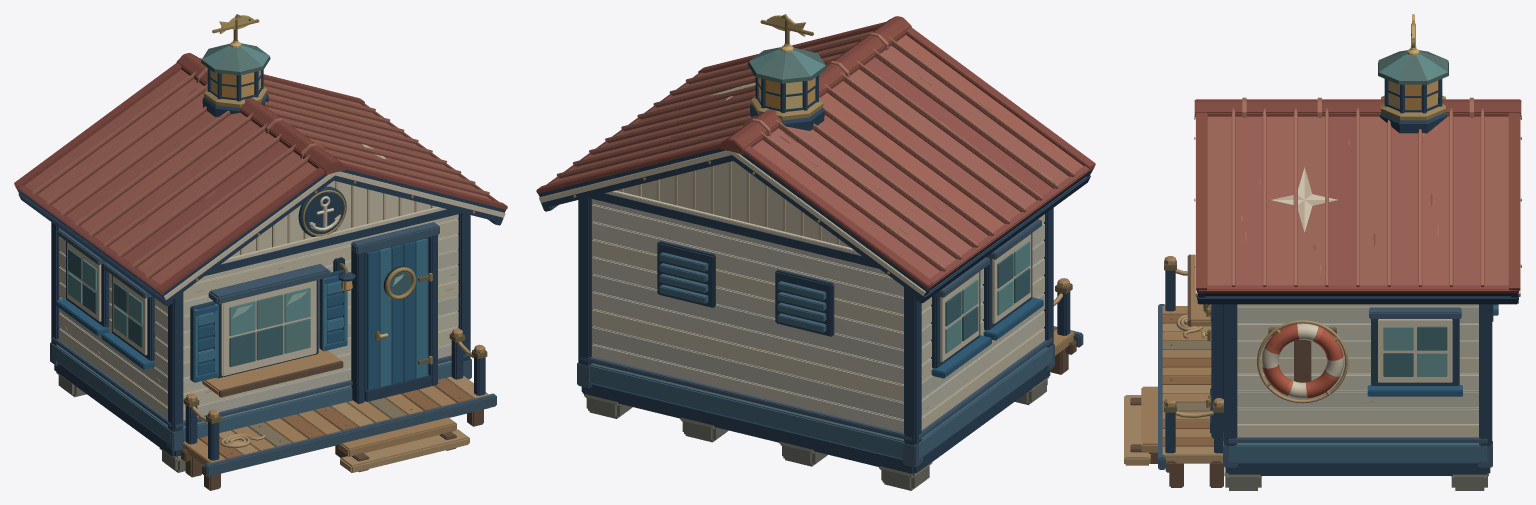
Rendered from SM_MarineSignalHut.fbx.
The picture shows the model from 3 angles, left to right: view 1: azimuth 30°, elevation 25°; view 2: azimuth 150°, elevation 25°; view 3: azimuth 270°, elevation 25°; orthographic projection. The views are drawn at different scales.
Parts seen in each view (by area): view 1: SM_MarineSignalHut; view 2: SM_MarineSignalHut; view 3: SM_MarineSignalHut.
Part boxes in pixels (x1,y1,x2,y2): SM_MarineSignalHut: (14, 14, 507, 490); SM_MarineSignalHut: (536, 14, 1095, 490); SM_MarineSignalHut: (1124, 14, 1521, 490).
Size of what is drawn, in the model's own units: 4.58 by 4.17 by 4.57.
